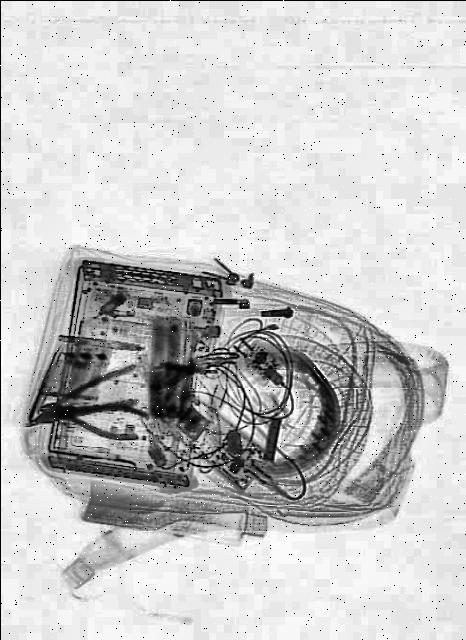Pliers: (36, 360, 142, 448)
